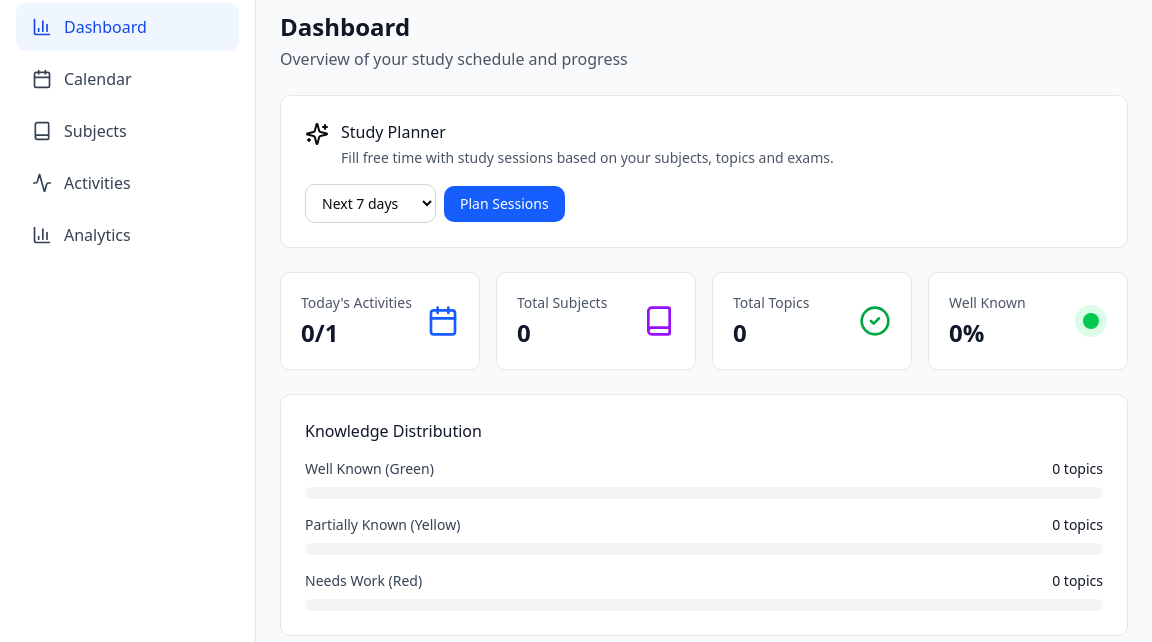
Test: CalendarView › shows one-off activities and every occurrence of a recurring series in this week
Expected: the heading "Dashboard" is shown, [280, 10, 410, 43]
Step 1. Click the button "Calendar" → [128, 79], box [16, 55, 239, 103]
(page scrolled)
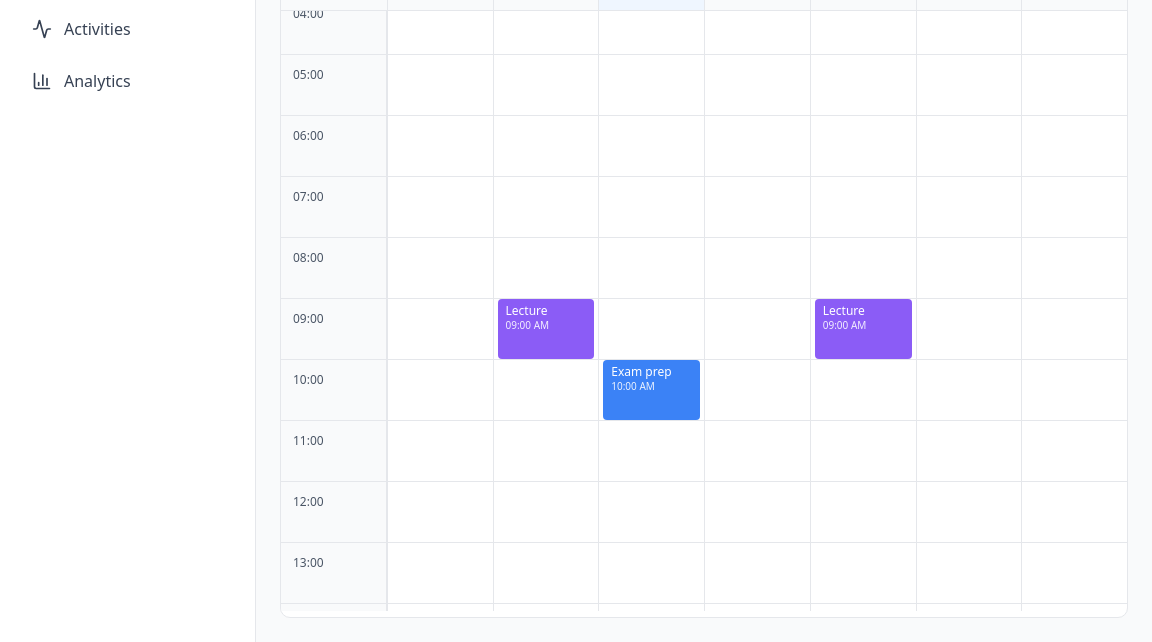
Expected: the text "Exam prep" is shown, [611, 363, 672, 380]
Expected: the 1st text "Lecture" is shown, [506, 302, 548, 319]
Expected: the 2nd text "Lecture" is shown, [823, 302, 865, 319]
